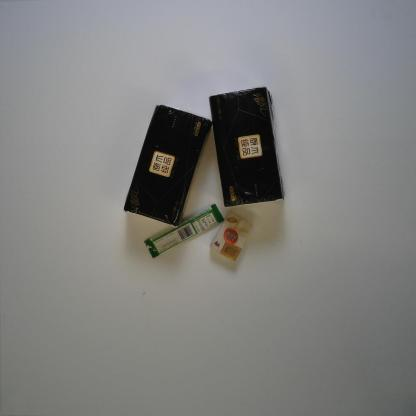Chocolate: (143, 203, 225, 259)
Tissue: (123, 104, 212, 228), (209, 87, 286, 208), (209, 211, 253, 263)
